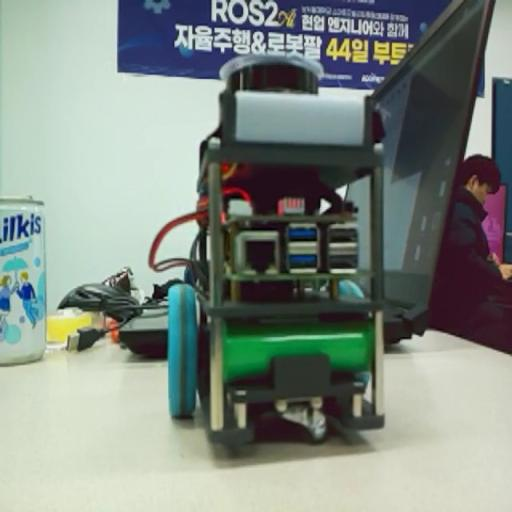pinky_63: (168, 45, 392, 458)
